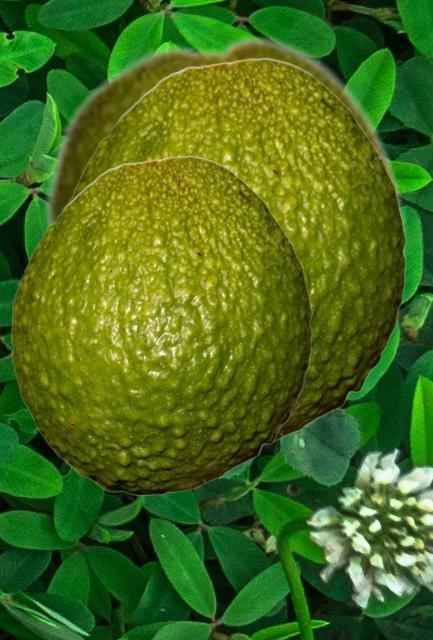avocado: (42, 32, 408, 445), (65, 57, 405, 448), (10, 155, 311, 494)
